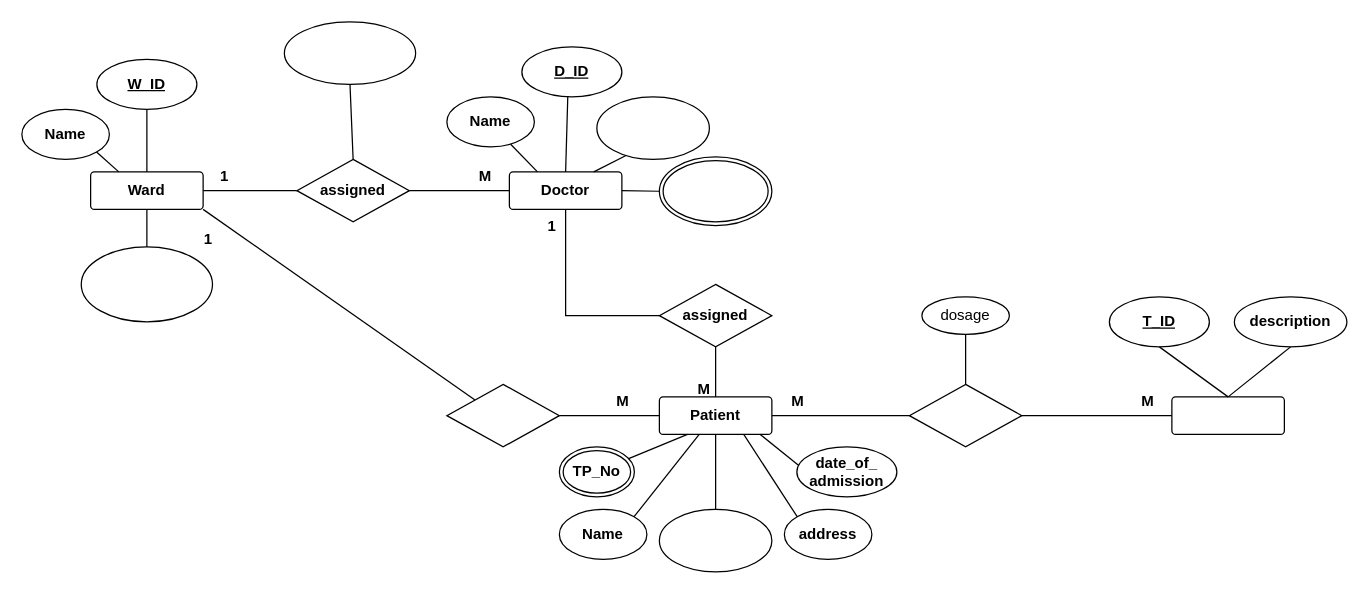
Some shapes in this 1369 by 594 pixel diagram are drawn without their labels. The centre of each missing label's shape, as x and y in pixels:
"admission number" belongs at point (715, 540).
"Admit" belongs at point (502, 415).
"Hospital ID_ D_ID" belongs at point (349, 52).
"number_ of_patients" belongs at point (146, 284).
"Specialization" belongs at point (652, 127).
"TelephoneNo" belongs at point (715, 191).
"Treat" belongs at point (965, 415).
"Treatment" belongs at point (1227, 415).
